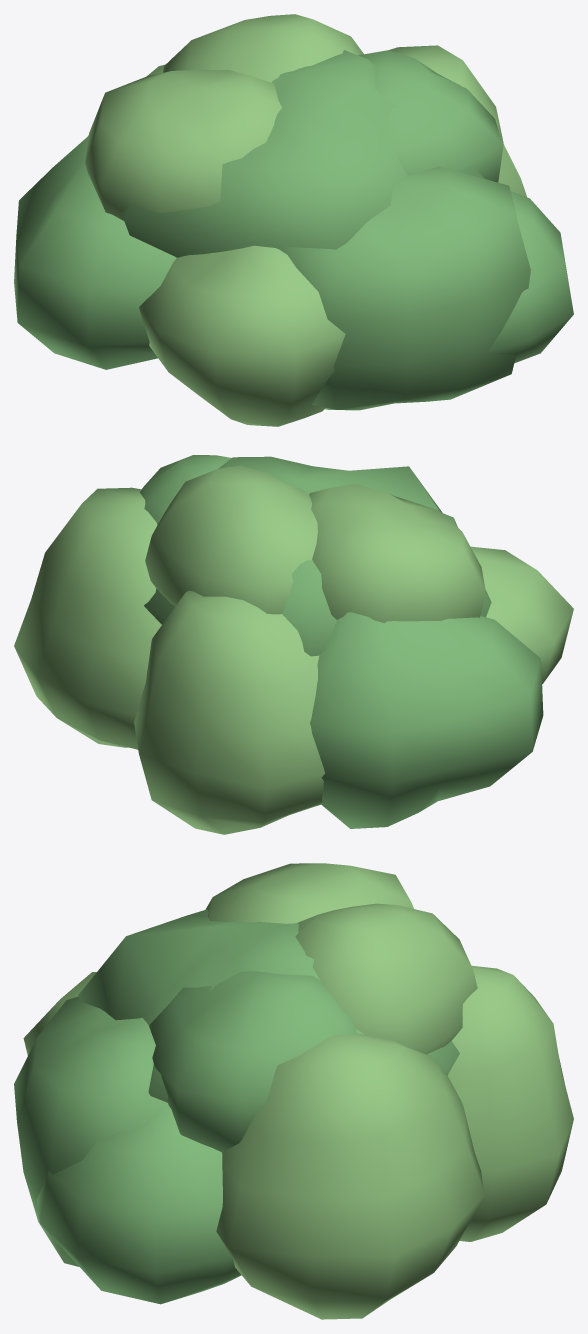
File: OW_BushCluster.fbx
3 renders of one model, top to bottom at view 1: azimuth 30°, elevation 25°; view 2: azimuth 150°, elevation 25°; view 3: azimuth 270°, elevation 25°, orthographic. The views are drawn at different scales.
Visible parts, largest first — view 1: OW_BushCluster; view 2: OW_BushCluster; view 3: OW_BushCluster.
Part boxes in pixels (bbox=[...]): OW_BushCluster: bbox=[14, 14, 573, 426]; OW_BushCluster: bbox=[14, 455, 573, 834]; OW_BushCluster: bbox=[14, 863, 573, 1319].
Size of the model in its own units: 1.38 by 0.8751 by 1.23.
